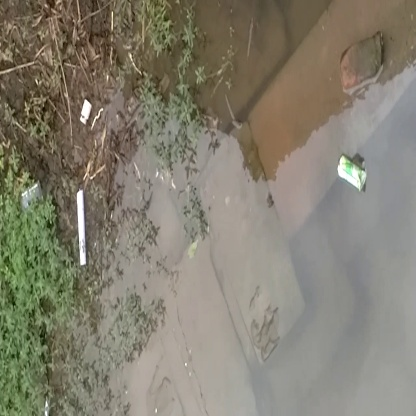milk-box: (331, 150, 377, 201)
